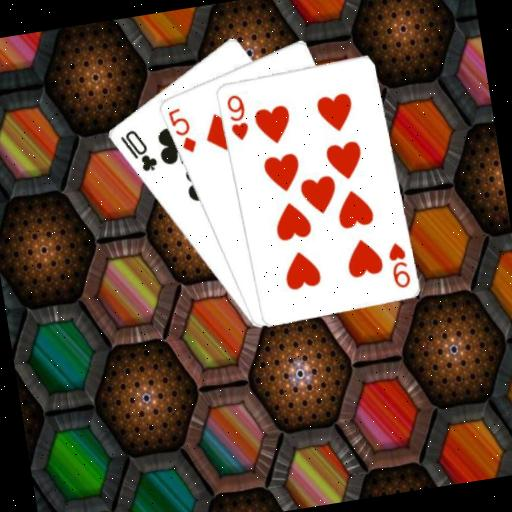10C: (115, 123, 160, 177)
5D: (162, 103, 198, 157)
9H: (221, 89, 251, 143), (383, 238, 413, 291)
